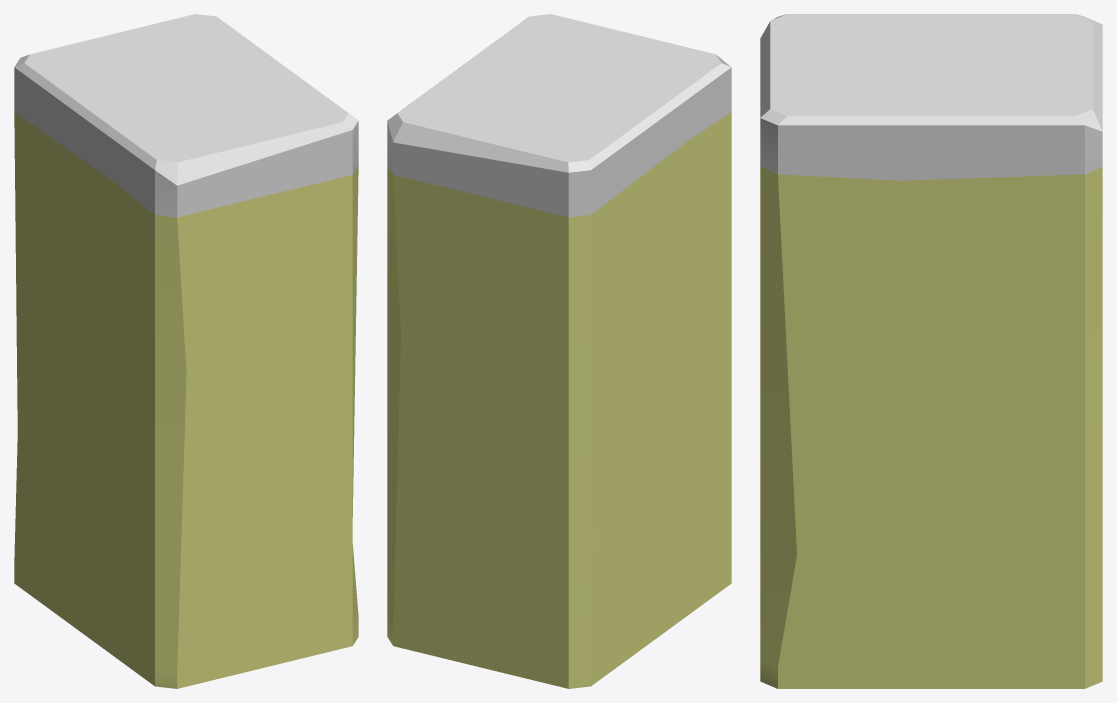
The model's file is TellerDesk_03.fbx.
The picture shows the model from 3 angles, left to right: view 1: azimuth 30°, elevation 25°; view 2: azimuth 150°, elevation 25°; view 3: azimuth 270°, elevation 25°; orthographic projection. The views are drawn at different scales.
Parts seen in each view (by area): view 1: SM_Prop_TellerDesk_03; view 2: SM_Prop_TellerDesk_03; view 3: SM_Prop_TellerDesk_03.
Boxes of the visible parts, x1=… form: SM_Prop_TellerDesk_03: x1=14, y1=14, x2=358, y2=688; SM_Prop_TellerDesk_03: x1=387, y1=14, x2=731, y2=688; SM_Prop_TellerDesk_03: x1=760, y1=14, x2=1102, y2=688.
Size of the model in its own units: 0.7673 by 1.88 by 1.02.
